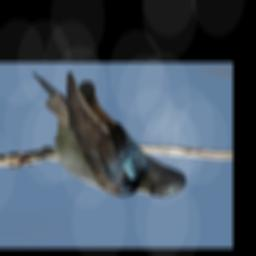Swallow: (0, 68, 204, 199)
